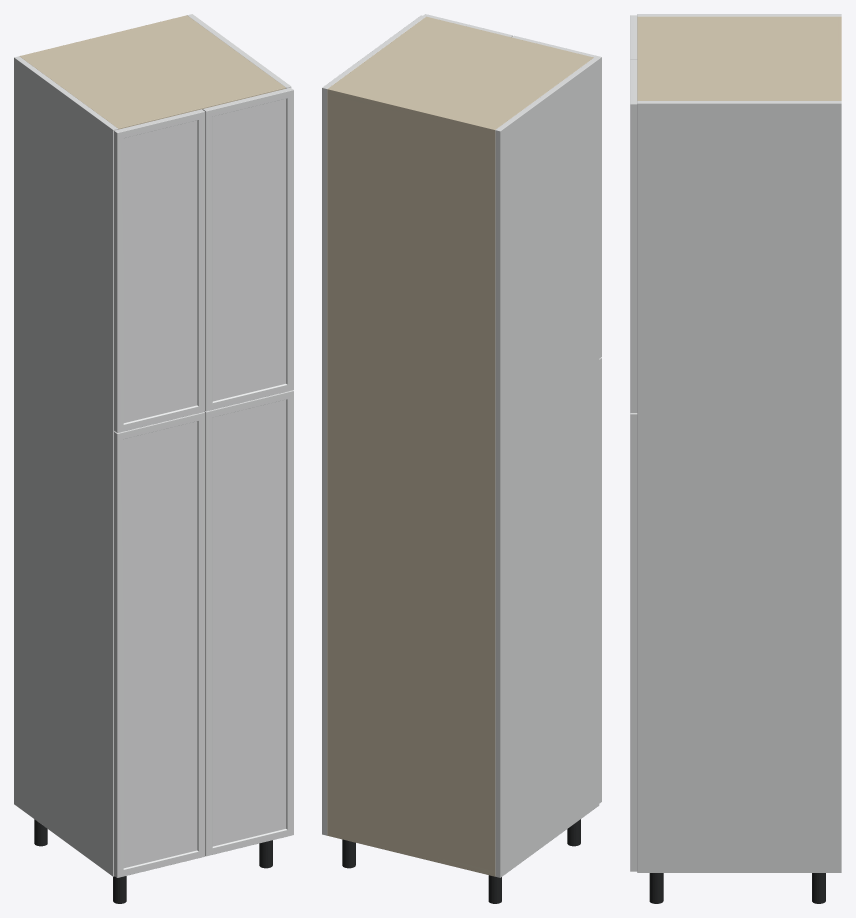
File: oppein-ply-ssw-pc2496.glb
3 views of the same model, side by side, from view 1: azimuth 30°, elevation 25°; view 2: azimuth 150°, elevation 25°; view 3: azimuth 270°, elevation 25° (orthographic). The views are drawn at different scales.
Visible parts, largest first — view 1: Cabinet side, Door, Door.001, Door.002, Door.003, Cabinet top, Cabinet side.001; view 2: Cabinet back, Cabinet side, Cabinet top, Cabinet side.001, Door, Door.002; view 3: Cabinet side.001, Cabinet top, Door.001, Door.003, Cabinet side, Adjustable foot.003.
Boxes of the visible parts, <box> form: Cabinet side: <box>14,56,118,876</box>; Door: <box>114,412,205,877</box>; Door.001: <box>204,390,293,856</box>; Door.002: <box>114,109,205,432</box>; Door.003: <box>202,87,293,411</box>; Cabinet top: <box>21,16,285,129</box>; Cabinet side.001: <box>187,14,291,88</box>; Cabinet back: <box>327,87,496,876</box>; Cabinet side: <box>495,57,599,877</box>; Cabinet top: <box>327,16,593,131</box>; Cabinet side.001: <box>322,15,425,835</box>; Door: <box>599,357,601,803</box>; Door.002: <box>512,35,601,358</box>; Cabinet side.001: <box>637,101,841,872</box>; Cabinet top: <box>637,16,837,100</box>; Door.001: <box>630,413,637,871</box>; Door.003: <box>630,60,637,412</box>; Cabinet side: <box>637,14,841,16</box>; Adjustable foot.003: <box>649,873,663,903</box>.
Bounding box in the file's own units: 0.6096 × 2.55 × 0.6064.
